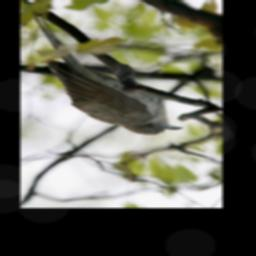Cuckoo: (32, 12, 182, 135)
